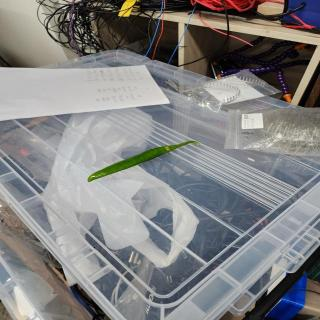Cabai Hijau: (71, 142, 216, 184)
